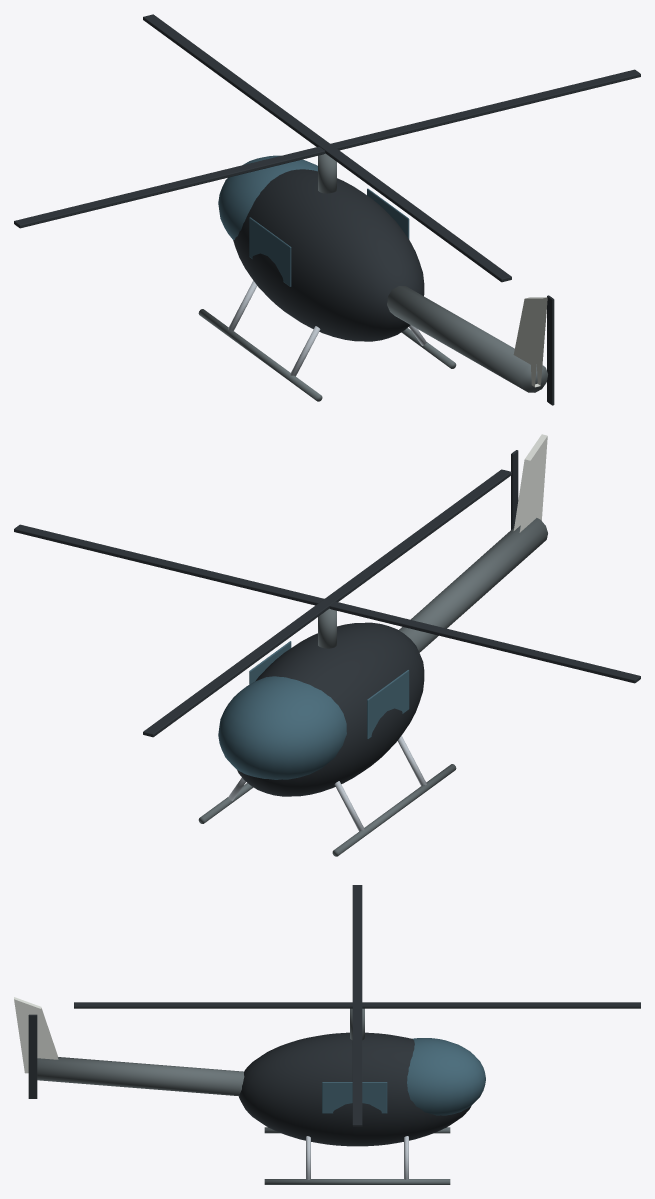
Rendered from mc_police_helicopter.glb.
3 renders of one model, top to bottom at view 1: azimuth 30°, elevation 25°; view 2: azimuth 150°, elevation 25°; view 3: azimuth 270°, elevation 25°, orthographic. The views are drawn at different scales.
Parts seen in each view (by area): view 1: mc_police_helicopter__Geometry, mc_police_helicopter__Rotor, mc_police_helicopter__RotorCross, mc_police_helicopter__TailRotor, mc_police_helicopter__RotorMast; view 2: mc_police_helicopter__Geometry, mc_police_helicopter__Rotor, mc_police_helicopter__RotorCross, mc_police_helicopter__RotorMast; view 3: mc_police_helicopter__Geometry, mc_police_helicopter__RotorCross, mc_police_helicopter__Rotor, mc_police_helicopter__TailRotor.
Part boxes in pixels (left/top/right/bottom): mc_police_helicopter__Geometry: left=198, top=155, right=547, bottom=401; mc_police_helicopter__Rotor: left=14, top=69, right=640, bottom=228; mc_police_helicopter__RotorCross: left=143, top=14, right=511, bottom=282; mc_police_helicopter__TailRotor: left=547, top=295, right=554, bottom=405; mc_police_helicopter__RotorMast: left=318, top=153, right=336, bottom=193; mc_police_helicopter__Geometry: left=198, top=434, right=547, bottom=856; mc_police_helicopter__Rotor: left=14, top=524, right=640, bottom=683; mc_police_helicopter__RotorCross: left=143, top=469, right=511, bottom=737; mc_police_helicopter__RotorMast: left=318, top=608, right=336, bottom=648; mc_police_helicopter__Geometry: left=14, top=997, right=485, bottom=1184; mc_police_helicopter__RotorCross: left=74, top=1002, right=640, bottom=1008; mc_police_helicopter__Rotor: left=352, top=885, right=362, bottom=1126; mc_police_helicopter__TailRotor: left=28, top=1014, right=37, bottom=1098.
Bounding box in the file's own units: 10.4 × 3.25 × 11.5.
